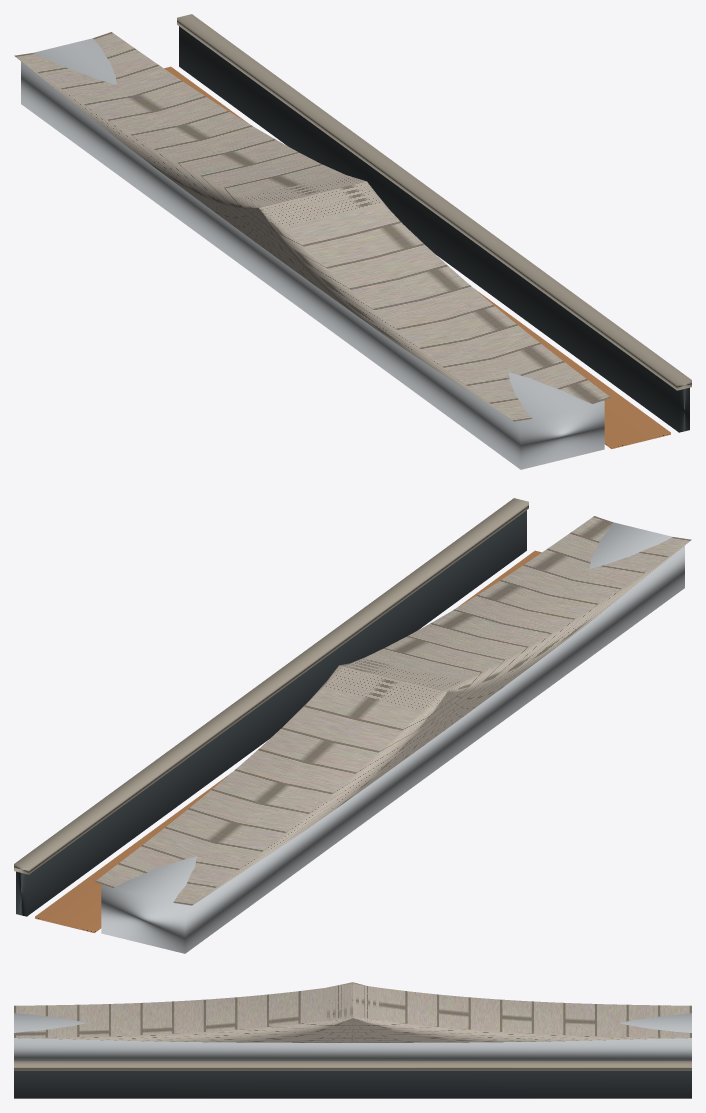
3 renders of one model, top to bottom at view 1: azimuth 30°, elevation 25°; view 2: azimuth 150°, elevation 25°; view 3: azimuth 270°, elevation 25°, orthographic. The views are drawn at different scales.
Parts seen in each view (by area): view 1: shops_simplified, wall_simplified, road_simplified; view 2: shops_simplified, wall_simplified, road_simplified; view 3: shops_simplified, wall_simplified.
Part boxes in pixels (box(x1,y1,x2,y2)): shops_simplified: box(14, 32, 610, 469); wall_simplified: box(177, 14, 691, 432); road_simplified: box(164, 66, 670, 448); shops_simplified: box(95, 516, 691, 953); wall_simplified: box(14, 498, 528, 916); road_simplified: box(35, 550, 541, 932); shops_simplified: box(14, 982, 691, 1060); wall_simplified: box(14, 1061, 691, 1098).
Bounding box in the file's own units: 13.55 × 5.9 × 64.
3 materials, 3 textured.
